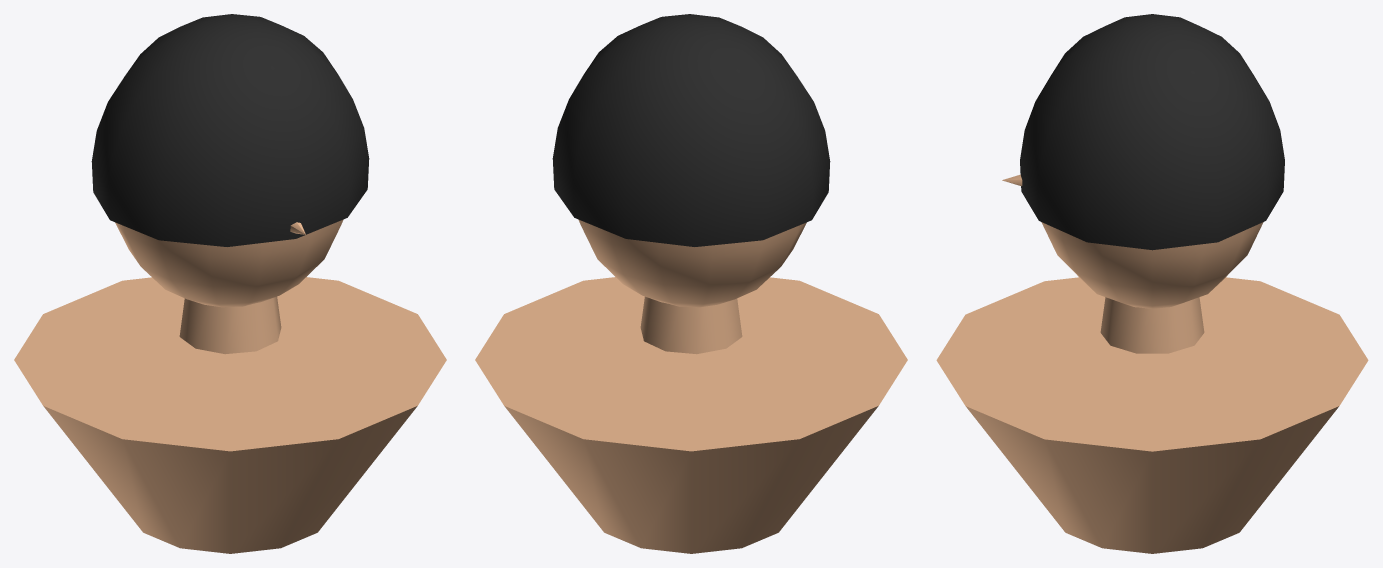
Rendered from raw_003.glb.
The picture shows the model from 3 angles, left to right: view 1: azimuth 30°, elevation 25°; view 2: azimuth 150°, elevation 25°; view 3: azimuth 270°, elevation 25°; orthographic projection.
Bounding box in the file's own units: 1.75 × 2.17 × 1.75.
